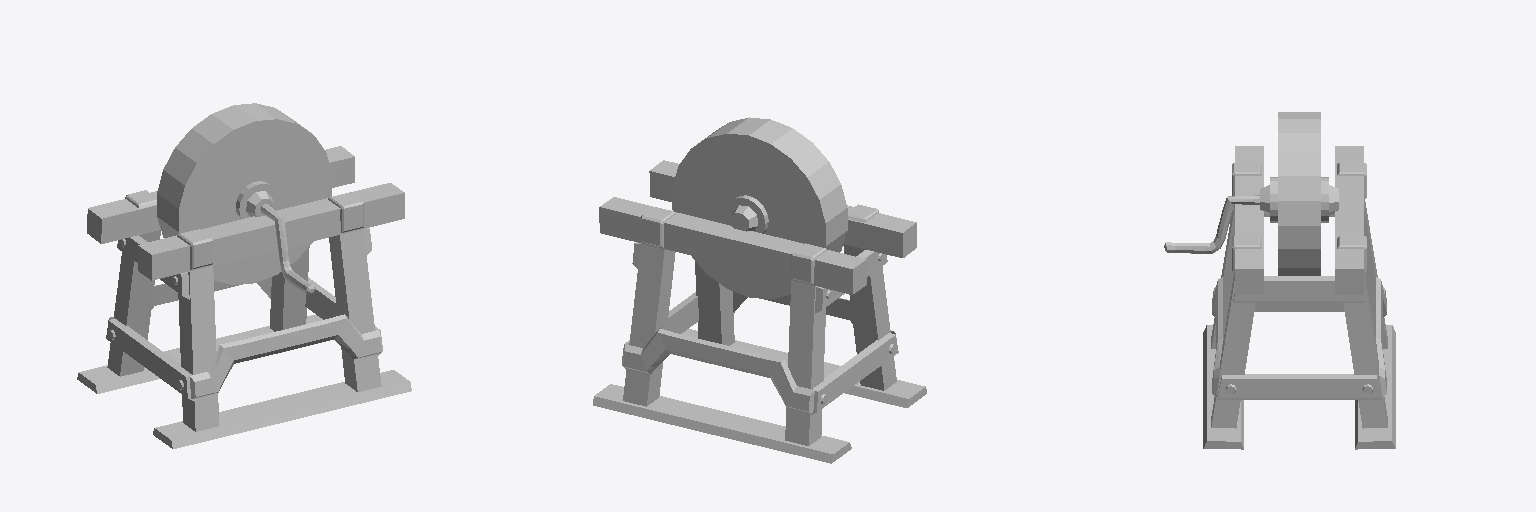
The model's file is Whetstone.obj.
3 views of the same model, side by side, from view 1: azimuth 30°, elevation 25°; view 2: azimuth 150°, elevation 25°; view 3: azimuth 270°, elevation 25° (orthographic).
Visible parts, largest first — view 1: Whetstone_Cube.125; view 2: Whetstone_Cube.125; view 3: Whetstone_Cube.125.
Boxes of the visible parts, box(x1,y1,x2,y2) form: Whetstone_Cube.125: box(77, 103, 411, 448); Whetstone_Cube.125: box(593, 117, 926, 463); Whetstone_Cube.125: box(1164, 112, 1395, 449).
Size of the model in its own units: 1.14 by 1.17 by 0.9018.